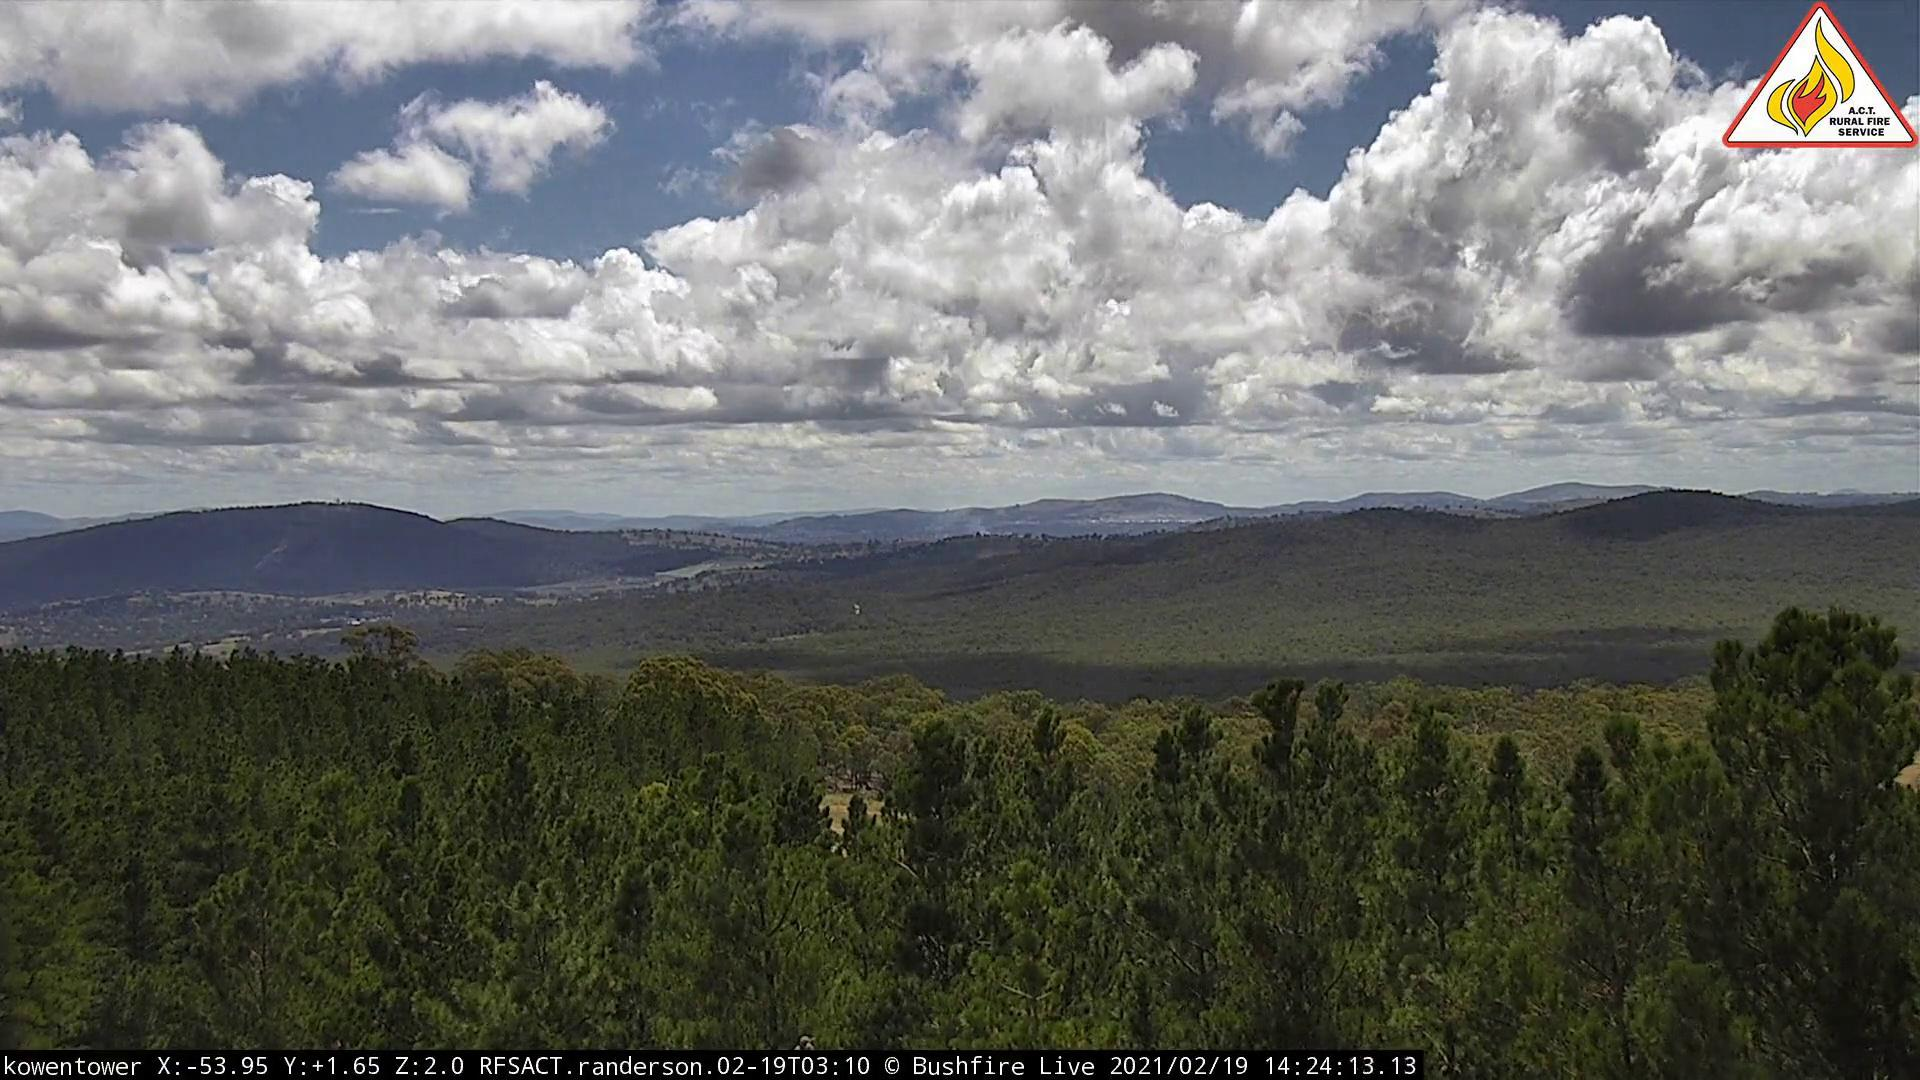Smoke: (948, 518, 1004, 545)
